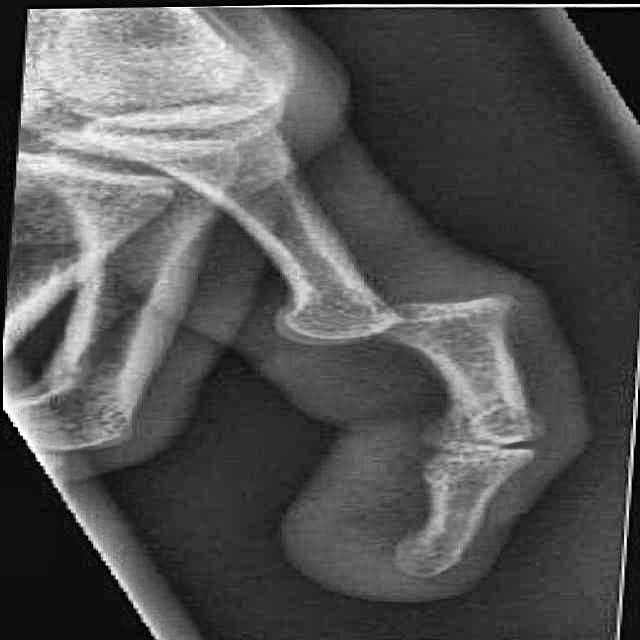Transverse: (259, 261, 568, 364)
